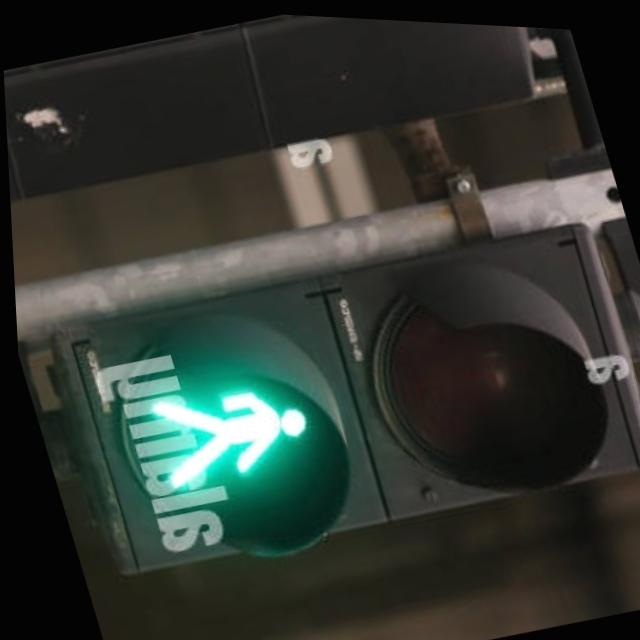green_light: (128, 352, 328, 511)
